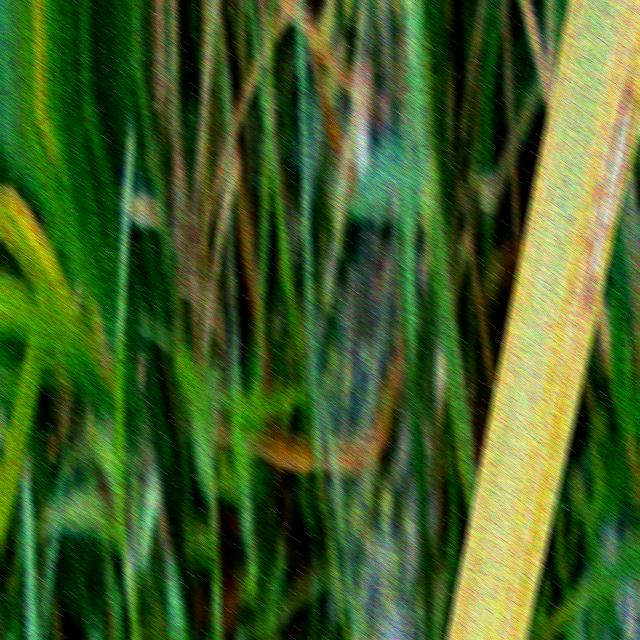LEAF BLAST: (585, 68, 635, 313)
